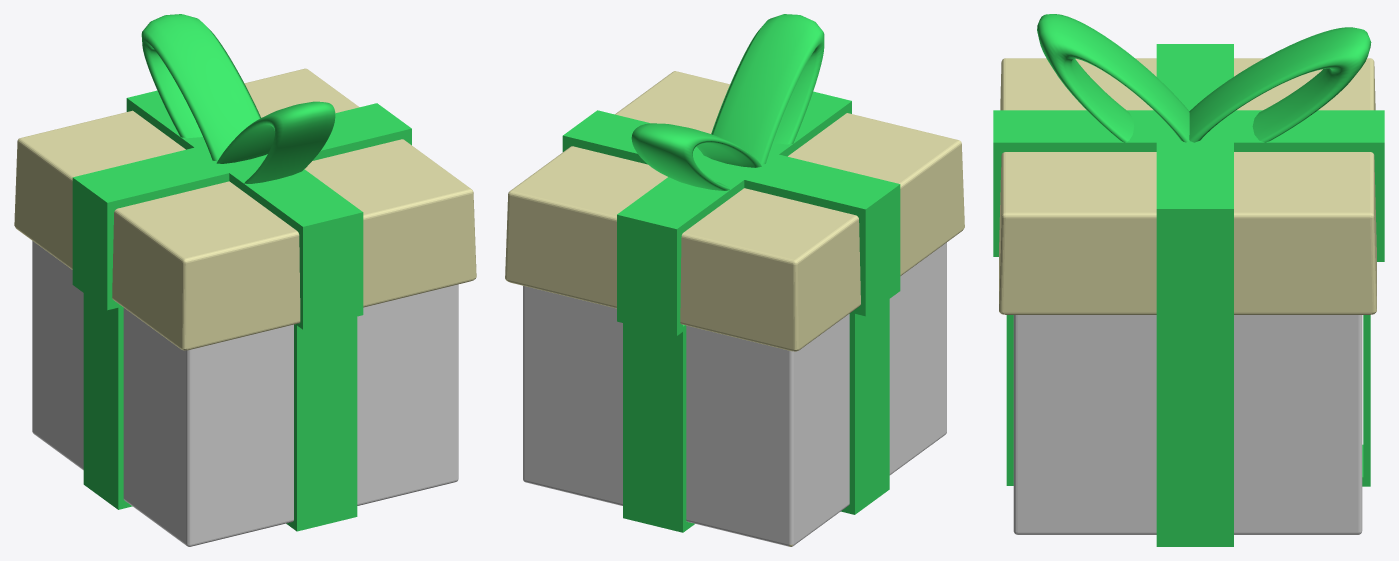
File: 礼物盒.fbx
3 views of the same model, side by side, from view 1: azimuth 30°, elevation 25°; view 2: azimuth 150°, elevation 25°; view 3: azimuth 270°, elevation 25° (orthographic). The views are drawn at different scales.
Visible parts, largest first — view 1: 立方体.064, 立方体.067, 立方体.066, 立方体.065, 环体.004, 环体.003; view 2: 立方体.064, 立方体.065, 立方体.067, 环体.003, 环体.004; view 3: 立方体.064, 立方体.068, 立方体.065, 环体.004, 立方体.067, 环体.003, 立方体.066.
Part boxes in pixels (box(x1,y1,x2,y2)): 立方体.064: box(14, 68, 476, 546); 立方体.067: box(72, 105, 402, 509); 立方体.066: box(286, 316, 357, 531); 立方体.065: box(126, 90, 363, 329); 环体.004: box(141, 14, 260, 161); 环体.003: box(216, 101, 335, 183); 立方体.064: box(505, 71, 964, 546); 立方体.065: box(617, 91, 851, 532); 立方体.067: box(571, 112, 900, 514); 环体.003: box(711, 14, 824, 164); 环体.004: box(631, 123, 761, 190); 立方体.064: box(999, 58, 1376, 534); 立方体.068: box(1156, 203, 1233, 546); 立方体.065: box(993, 110, 1384, 486); 环体.004: box(1189, 27, 1371, 142); 立方体.067: box(1156, 44, 1233, 204); 环体.003: box(1037, 14, 1189, 142); 立方体.066: box(1006, 315, 1013, 485).
Size of the model in its own units: 85.68 by 109 by 85.88.
